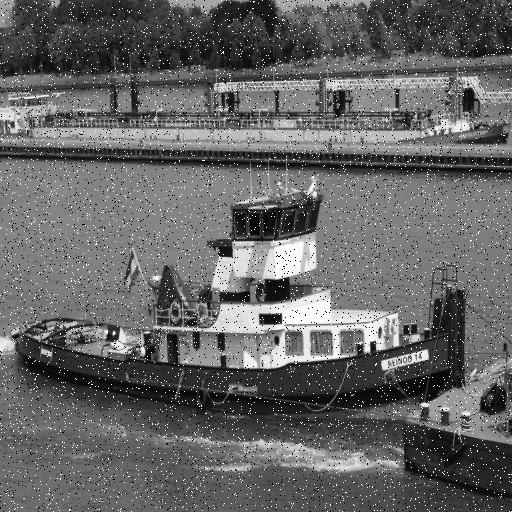tugboat: (14, 169, 471, 449)
